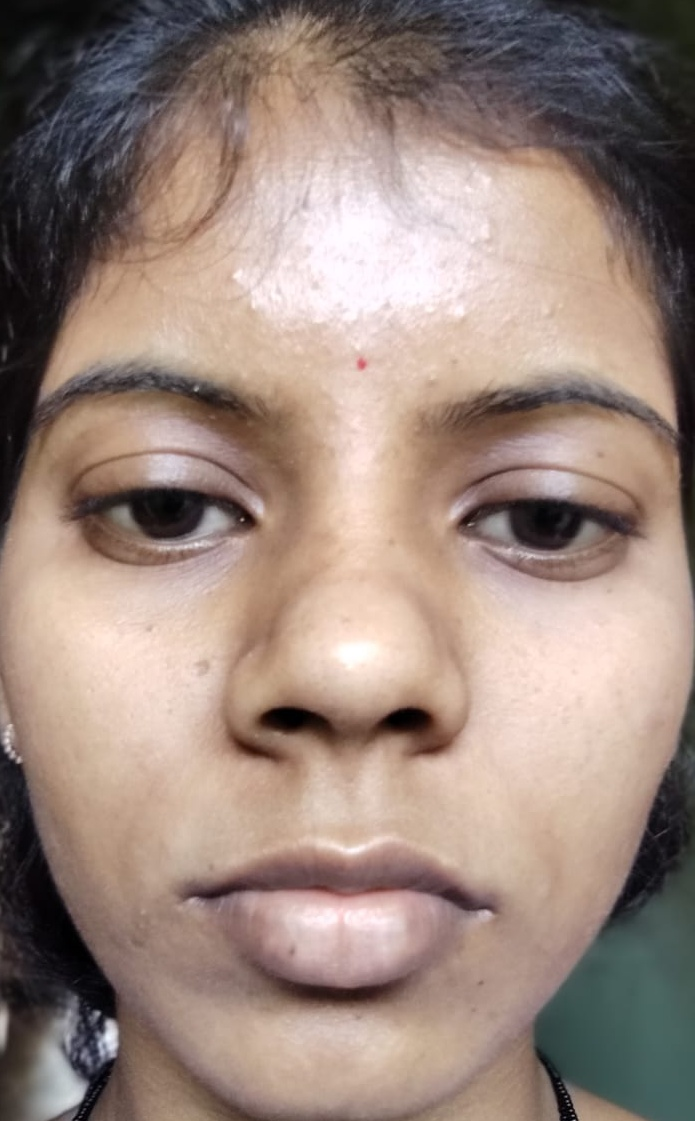papule: (434, 297, 496, 358), (295, 221, 339, 273), (212, 250, 252, 300), (458, 199, 500, 245)
